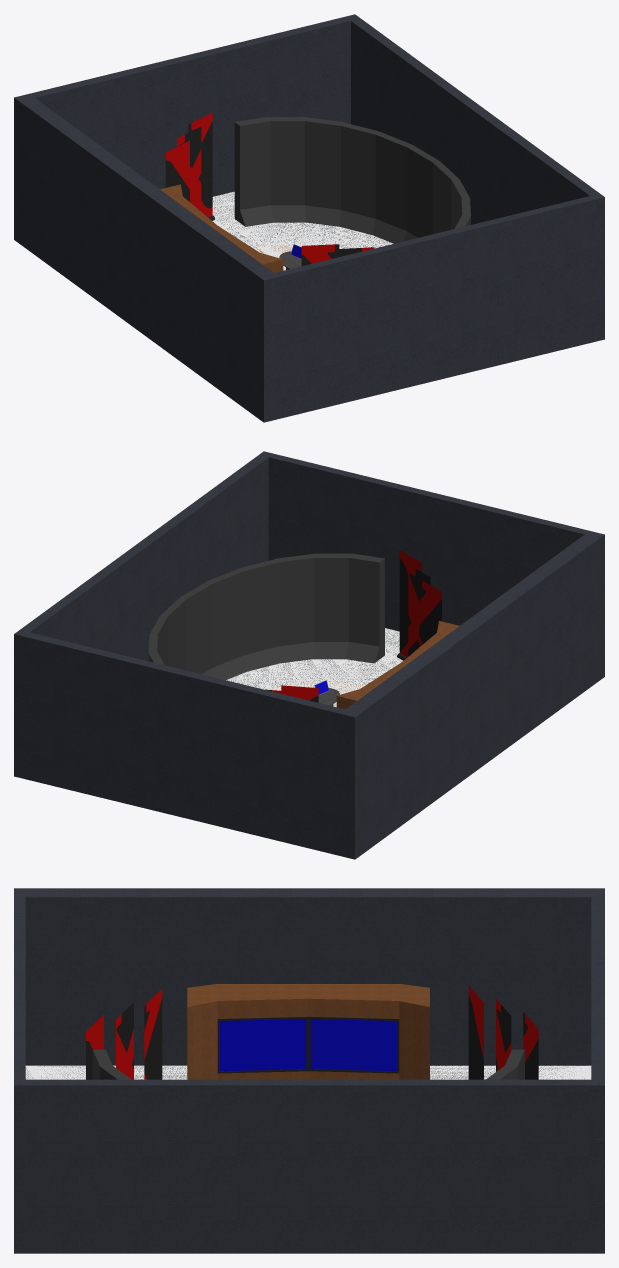
Rendered from hbxliveStudio4.dae.
3 views of the same model, one above another, from view 1: azimuth 30°, elevation 25°; view 2: azimuth 150°, elevation 25°; view 3: azimuth 270°, elevation 25° (orthographic). The views are drawn at different scales.
Parts seen in each view (by area): view 1: SketchUp (×7); view 2: SketchUp (×8); view 3: SketchUp (×13).
Part boxes in pixels (bbox=[...]): SketchUp (×7): bbox=[14, 14, 604, 422]; SketchUp (×8): bbox=[14, 451, 604, 859]; SketchUp (×13): bbox=[14, 888, 604, 1253].
Bounding box in the file's own units: 396 × 502 × 158.
12 materials, 4 textured.
